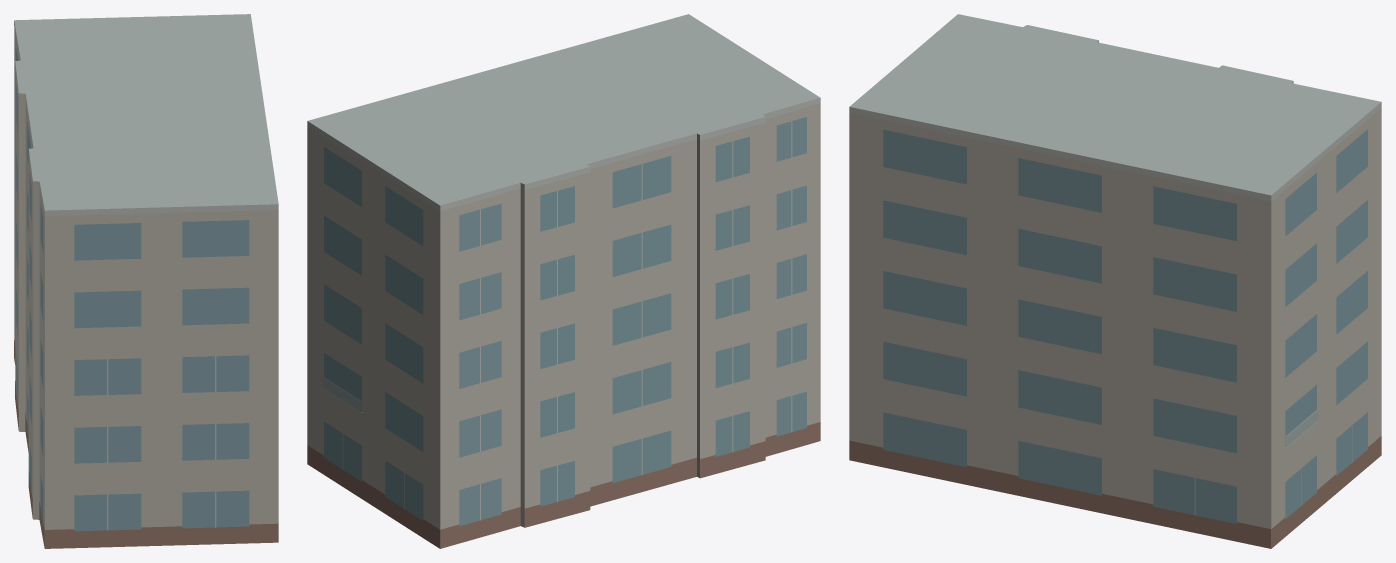
Rendered from survey-upis-32885189.glb.
3 views of the same model, side by side, from view 1: azimuth 30°, elevation 25°; view 2: azimuth 150°, elevation 25°; view 3: azimuth 270°, elevation 25° (orthographic). The views are drawn at different scales.
Visible parts, largest first — view 1: survey-upis-32885189.tmp; view 2: survey-upis-32885189.tmp; view 3: survey-upis-32885189.tmp.
Part boxes in pixels (<box>): survey-upis-32885189.tmp: <box>14,14,278,548</box>; survey-upis-32885189.tmp: <box>307,14,820,548</box>; survey-upis-32885189.tmp: <box>849,14,1381,548</box>.
Size of the model in its own units: 16.08 by 14.6 by 19.93.
